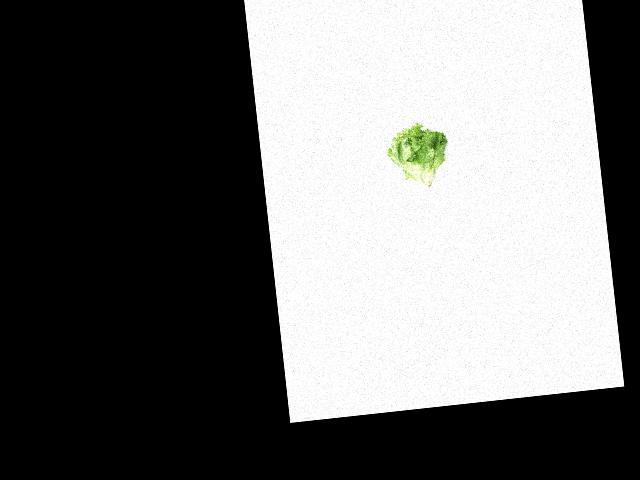lettuce: (382, 121, 453, 192)
